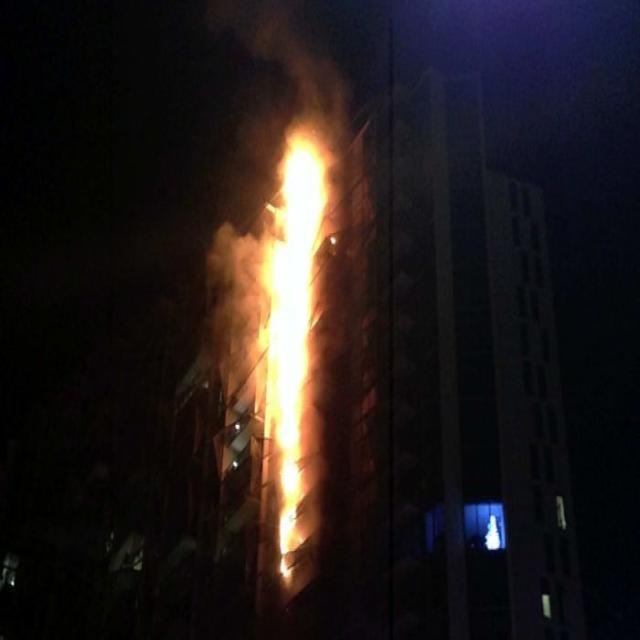Fire: (258, 128, 328, 582)
Smoke: (206, 222, 260, 410), (262, 21, 348, 137)
